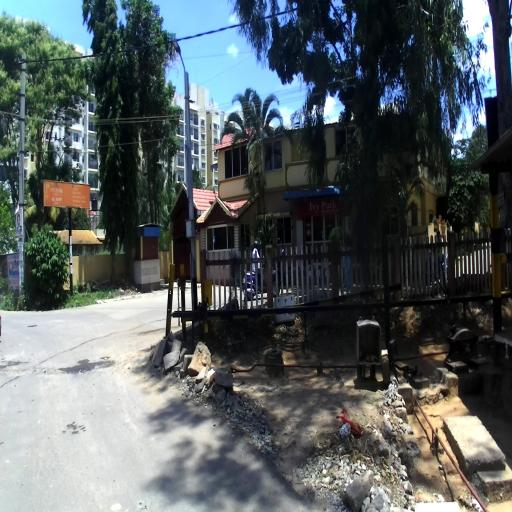street_light_0: (173, 41, 190, 99)
